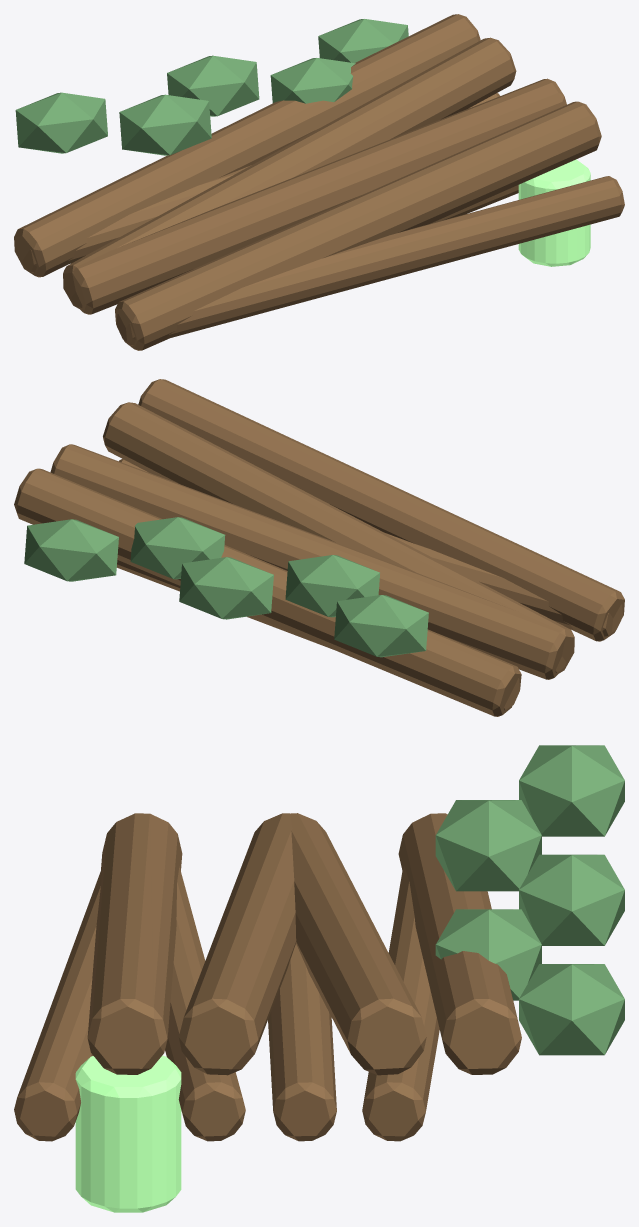
The model's file is harthmere_orchard_softwood.glb.
3 renders of one model, top to bottom at view 1: azimuth 30°, elevation 25°; view 2: azimuth 150°, elevation 25°; view 3: azimuth 270°, elevation 25°, orthographic. The views are drawn at different scales.
Size of the model in its own units: 1.73 by 0.51 by 1.32.
